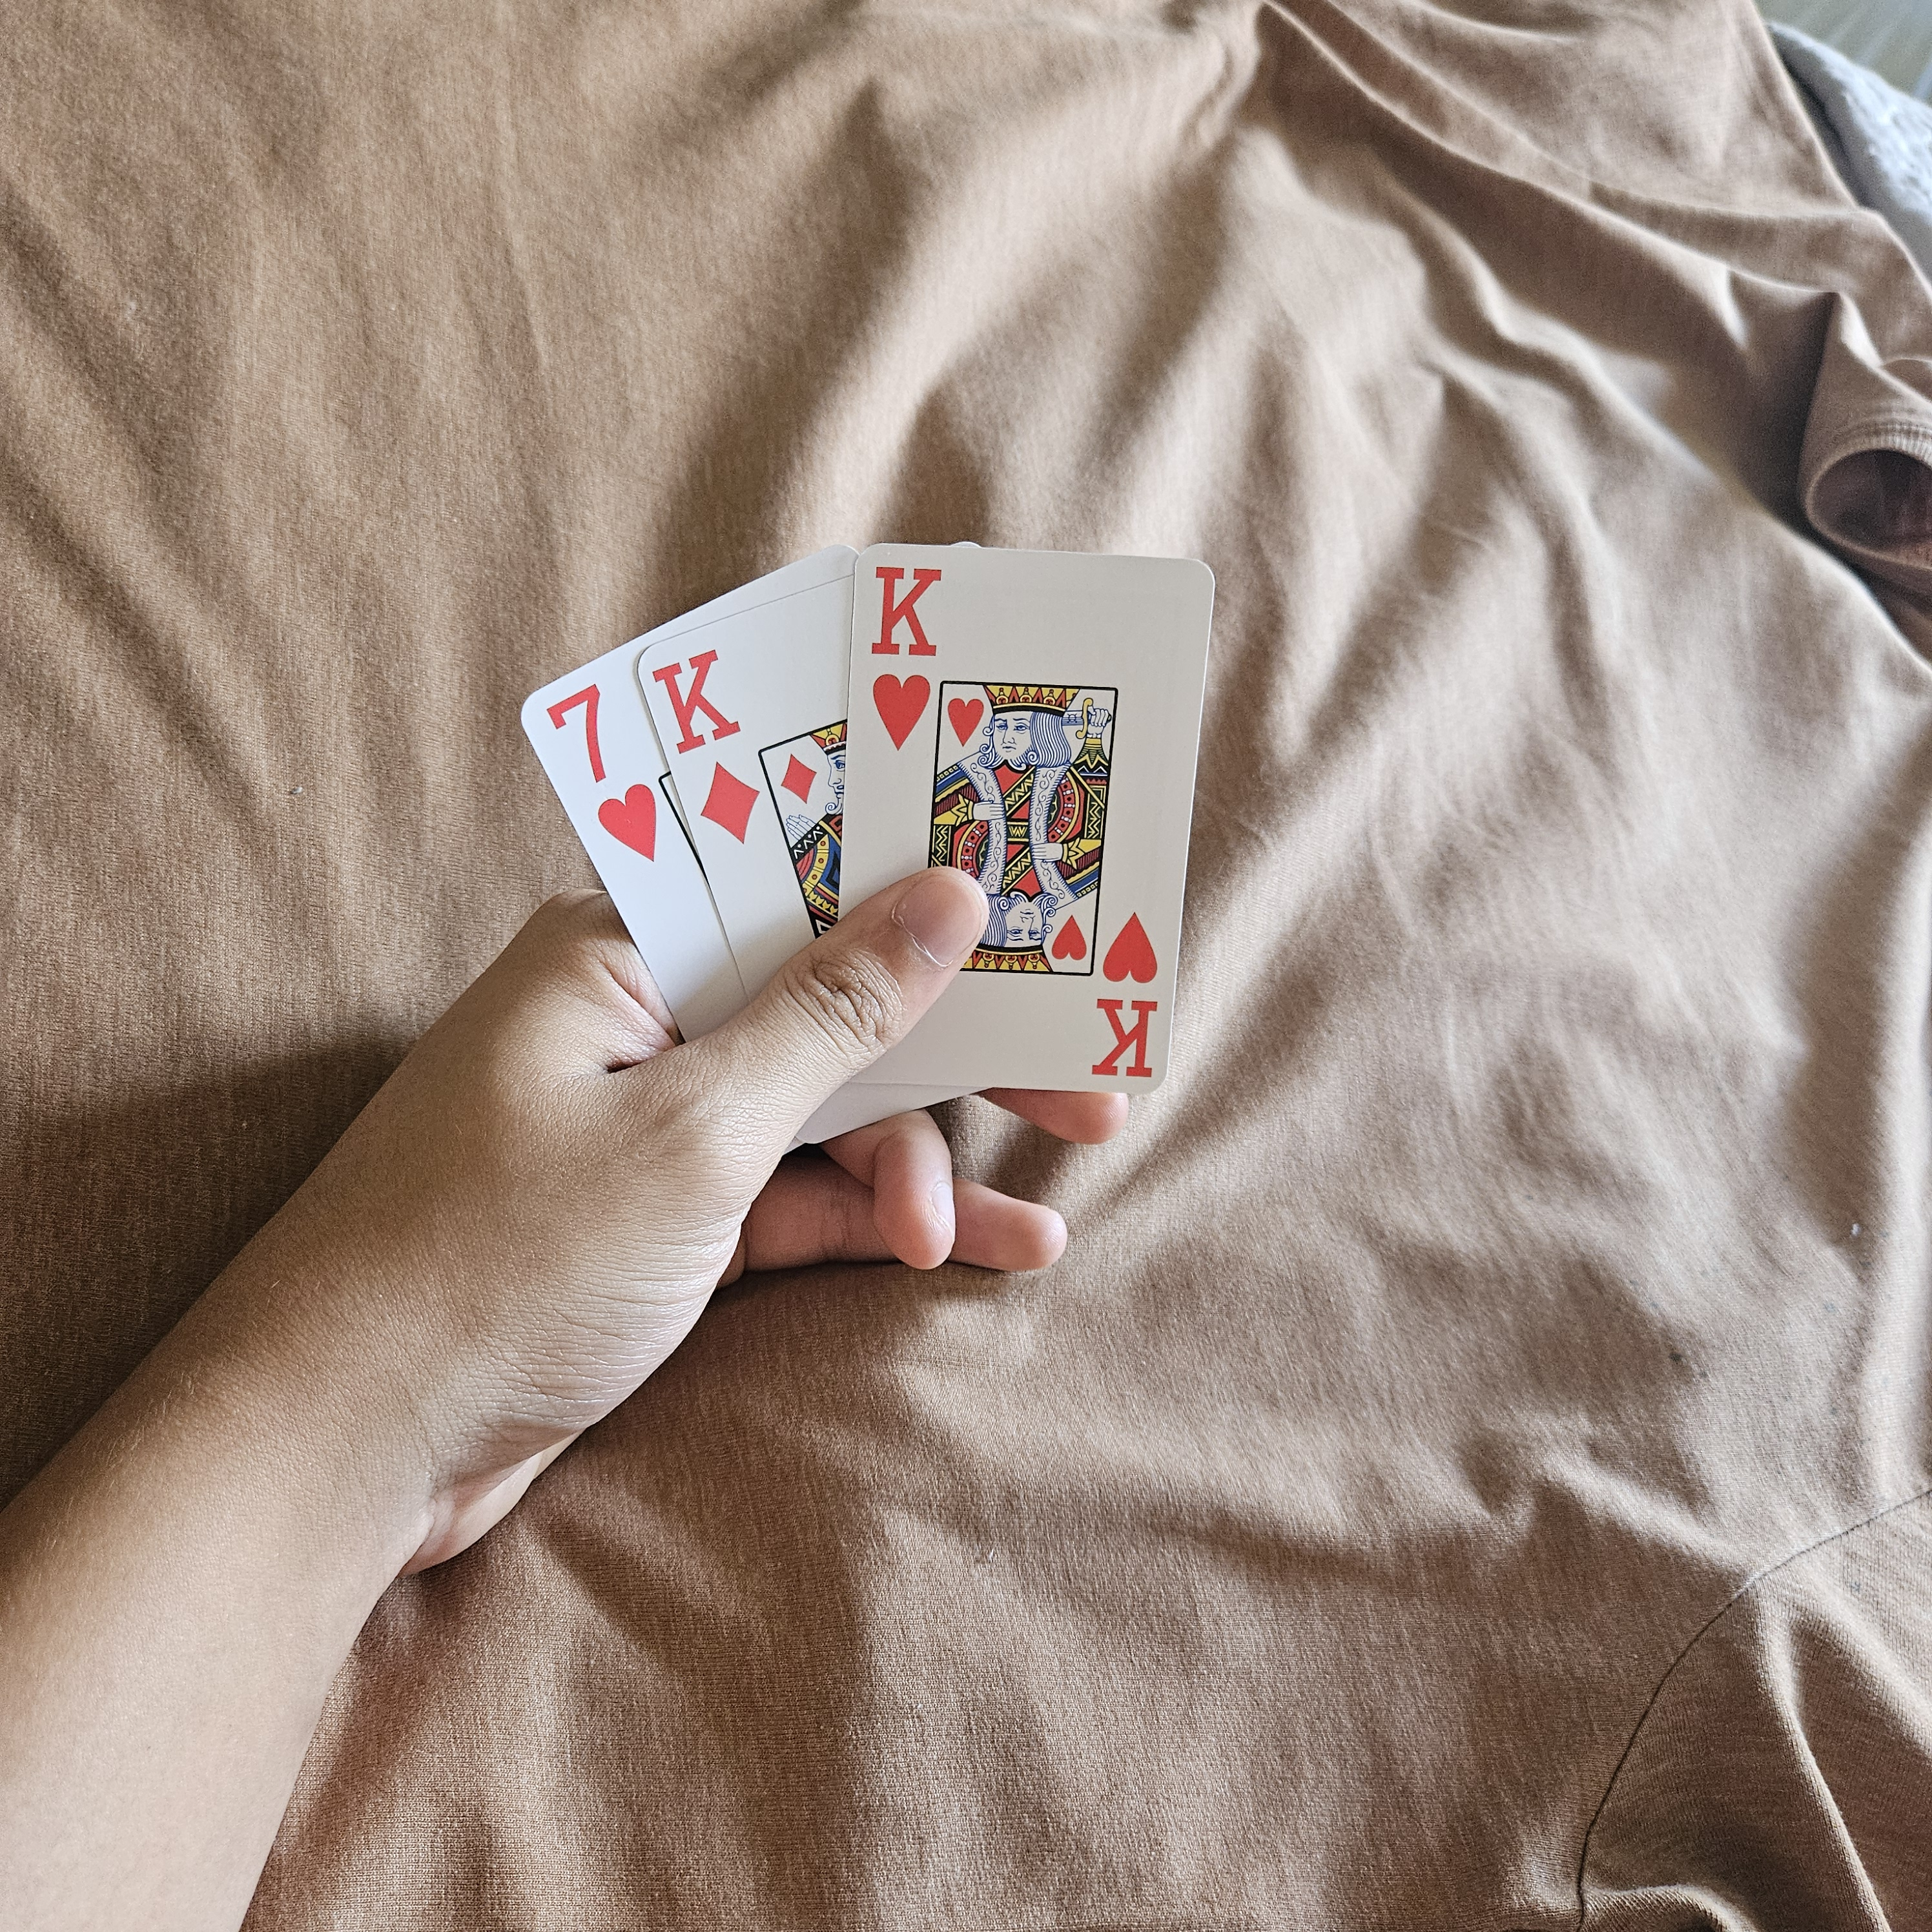7C: (540, 676, 667, 863)
KC: (860, 547, 947, 750), (1085, 902, 1171, 1086)
KO: (648, 633, 768, 849)
